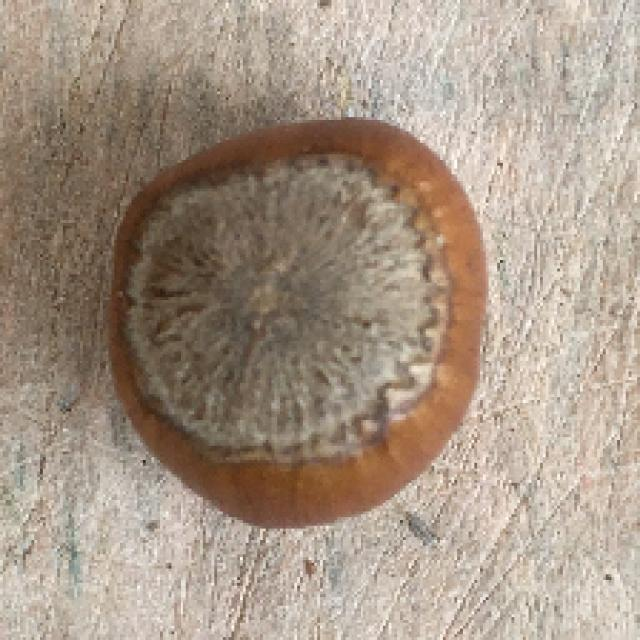qualityHazelnut: (95, 115, 488, 531)
